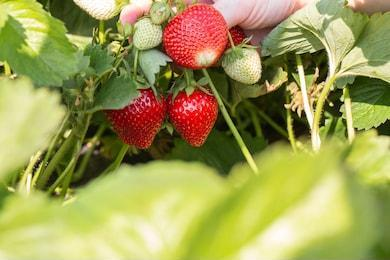Fresa: (93, 73, 170, 152), (161, 1, 230, 71), (166, 82, 223, 149)
